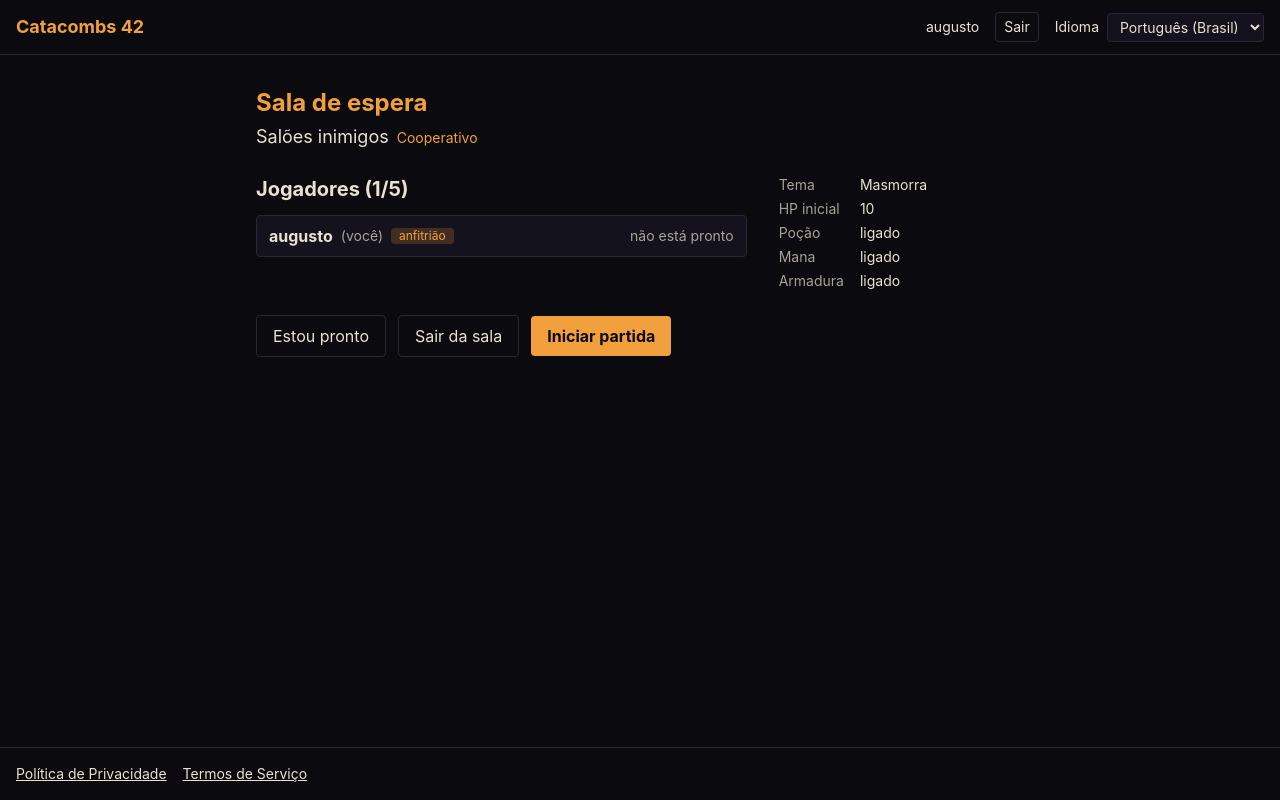
Test: sala de espera do anfitrião › Iniciar leva a /play
Step 1. Click the button "Iniciar partida" → (601, 336), box [531,316,671,356]
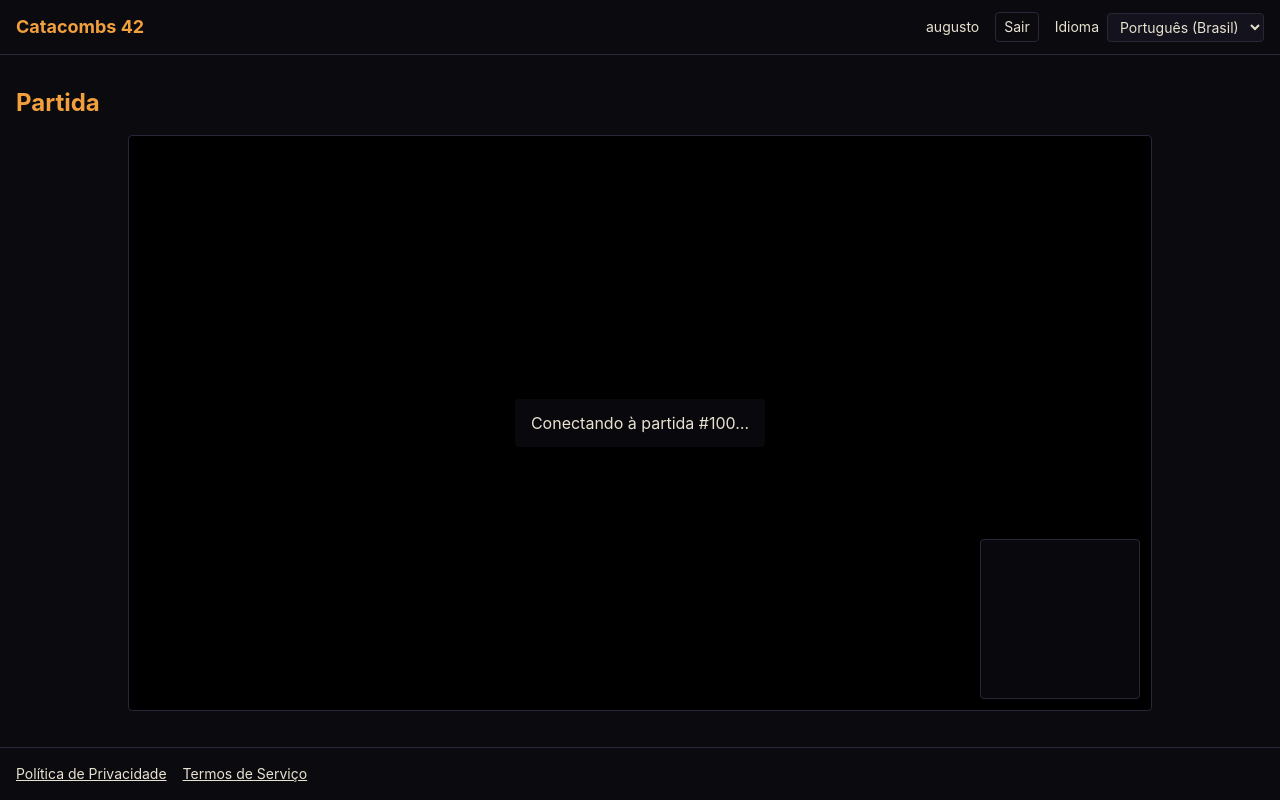
Result: the text "Conectando à partida #100…" is shown at [531,411,749,435]
